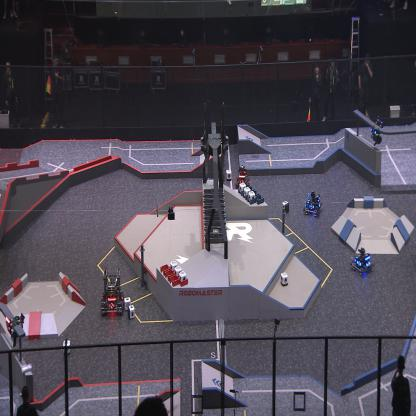car: (100, 266, 126, 318), (350, 244, 373, 274), (304, 189, 324, 217), (234, 164, 251, 190)
